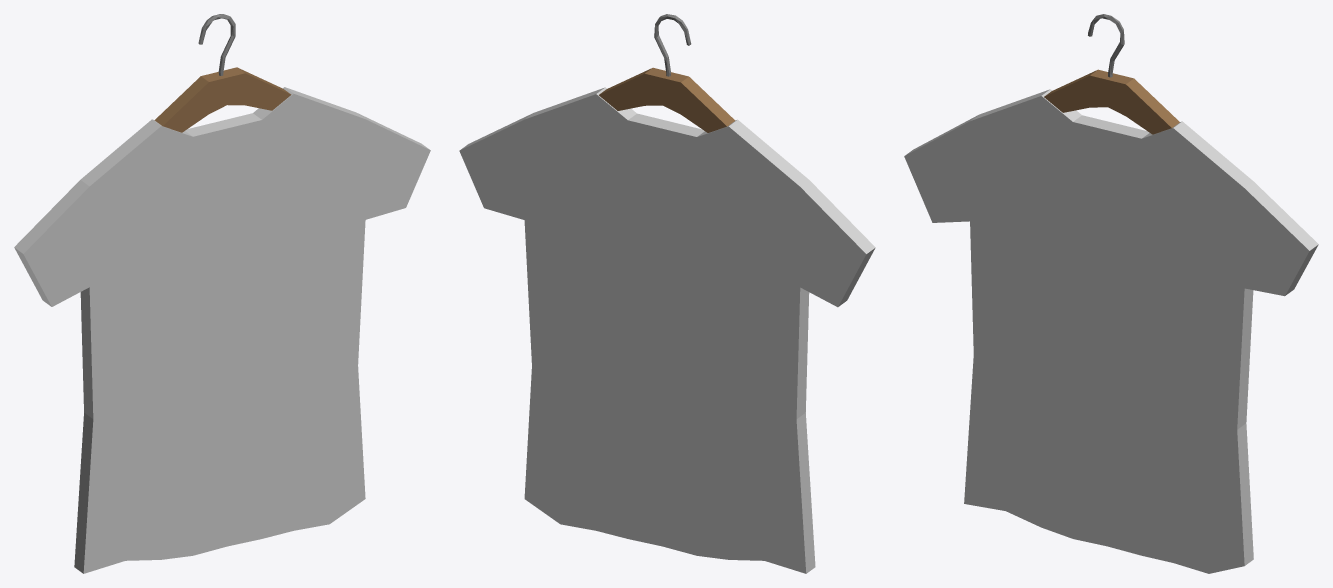
Rendered from Clothes6_C4.fbx.
3 renders of one model, left to right at view 1: azimuth 30°, elevation 25°; view 2: azimuth 150°, elevation 25°; view 3: azimuth 330°, elevation 25°, orthographic.
Parts seen in each view (by area): view 1: Clothes6_C4; view 2: Clothes6_C4; view 3: Clothes6_C4.
Boxes of the visible parts, <box> form: Clothes6_C4: <box>14,14,430,573</box>; Clothes6_C4: <box>459,14,875,573</box>; Clothes6_C4: <box>904,14,1318,573</box>.
Bounding box in the file's own units: 50.52 × 63.08 × 1.99.
